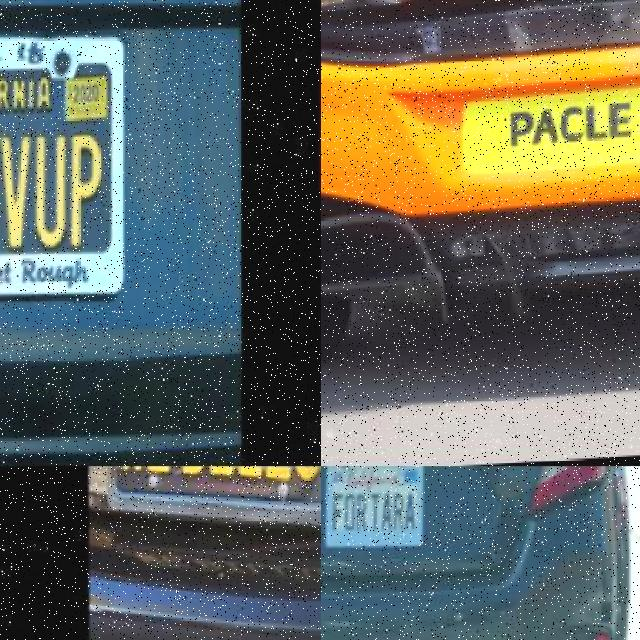licenseplate: (0, 23, 146, 319), (108, 466, 320, 591), (463, 91, 640, 175), (322, 466, 422, 556)
